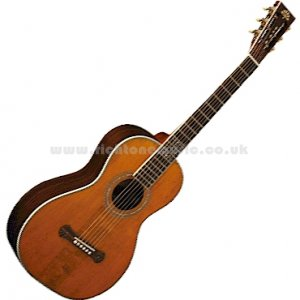guitar: (6, 2, 296, 300)
